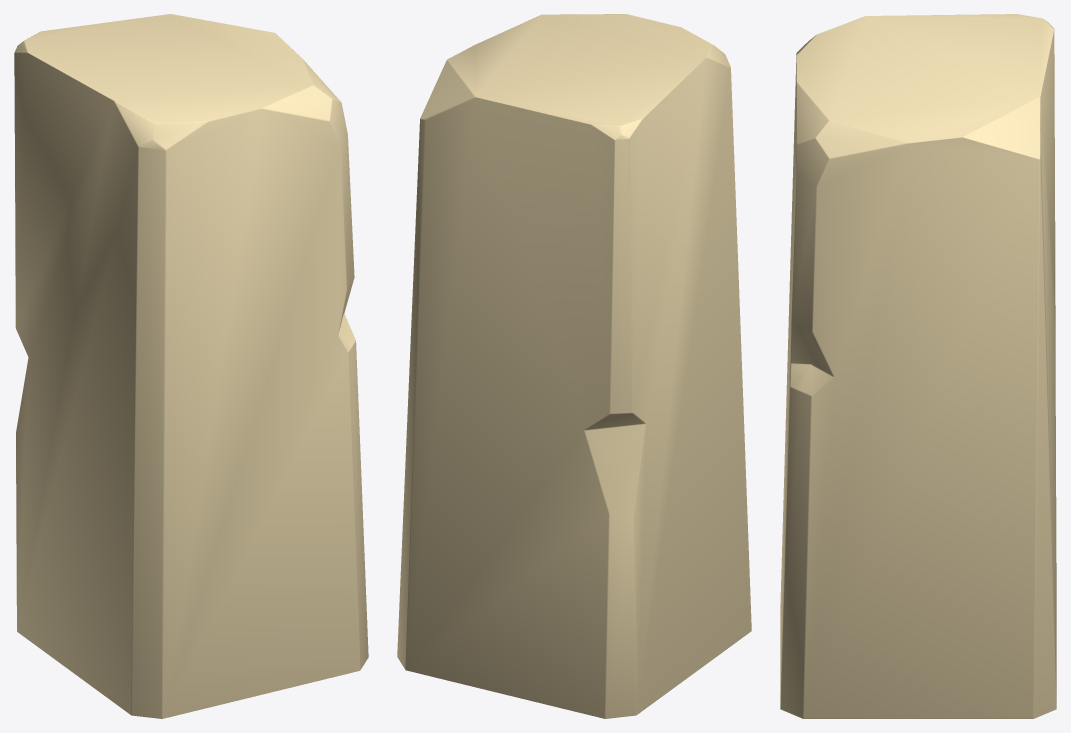
Rendered from Module_Masonry_Post.fbx.
3 renders of one model, left to right at view 1: azimuth 30°, elevation 25°; view 2: azimuth 150°, elevation 25°; view 3: azimuth 270°, elevation 25°, orthographic.
Parts seen in each view (by area): view 1: Module_Masonry_Post_Geometry; view 2: Module_Masonry_Post_Geometry; view 3: Module_Masonry_Post_Geometry.
Boxes of the visible parts, <box> form: Module_Masonry_Post_Geometry: <box>14,14,368,718</box>; Module_Masonry_Post_Geometry: <box>397,14,751,718</box>; Module_Masonry_Post_Geometry: <box>780,14,1056,718</box>.
Bounding box in the file's own units: 0.779 × 1.84 × 0.779.
